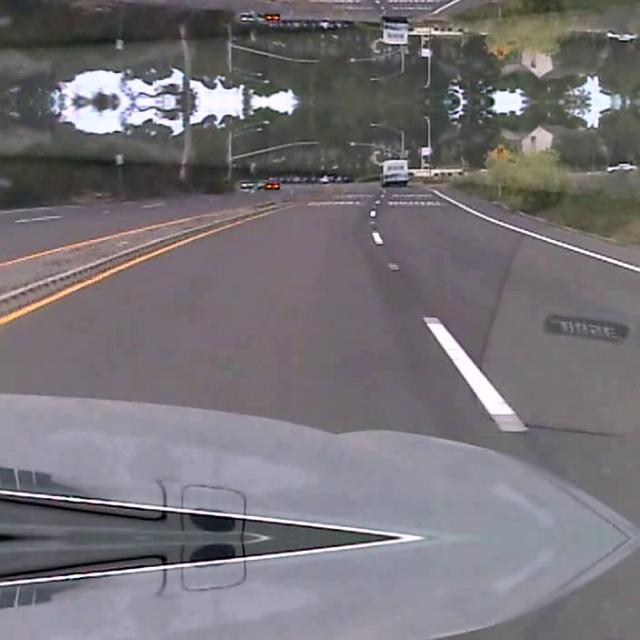signalAhead: (487, 38, 513, 61), (487, 142, 513, 164)
